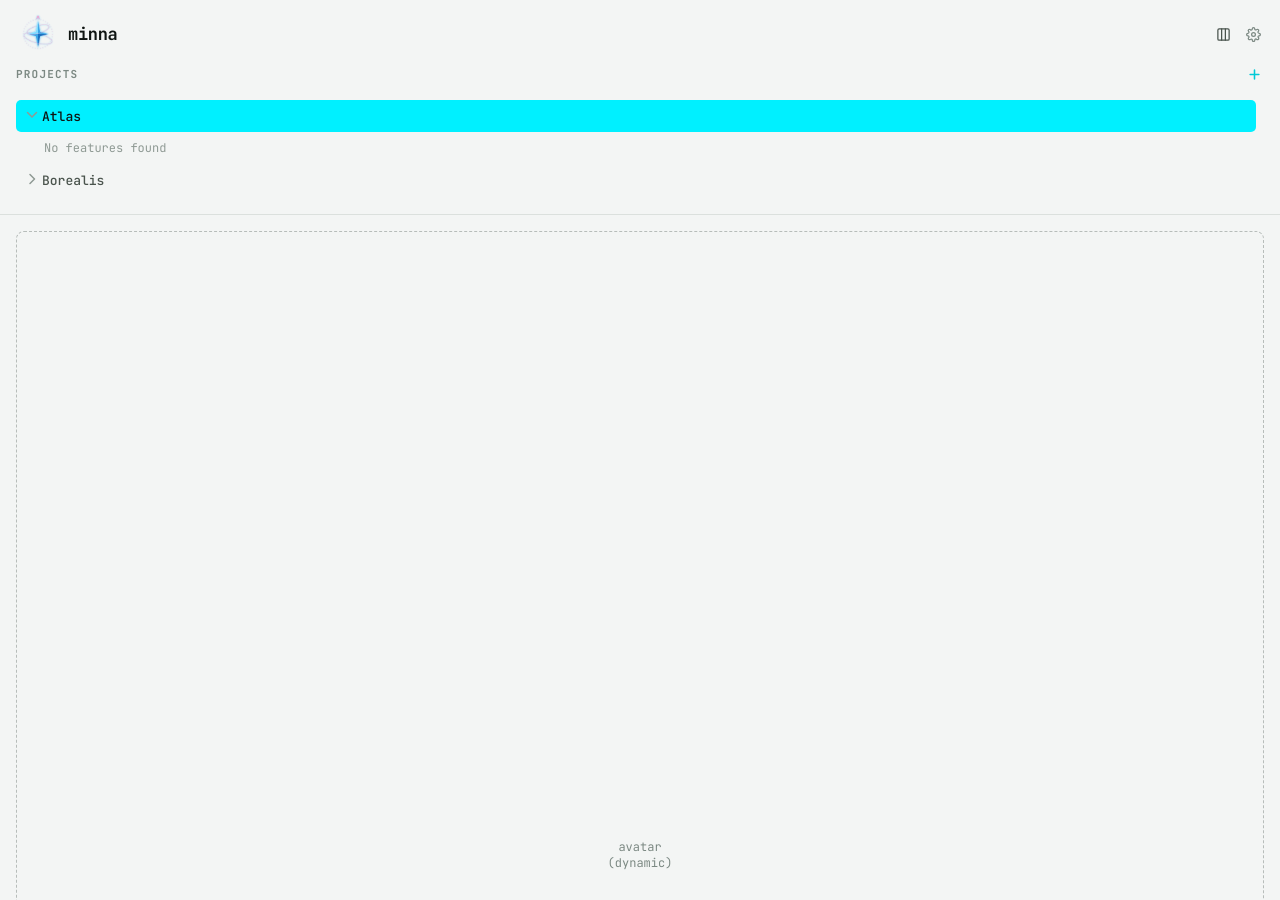
Test: Sidebar › toggles real registry projects without exposing demo feature rows
The width and height of the screenshot is (1280, 900).
Click the button "Atlas" at (62, 116), box [16,100,1208,132]
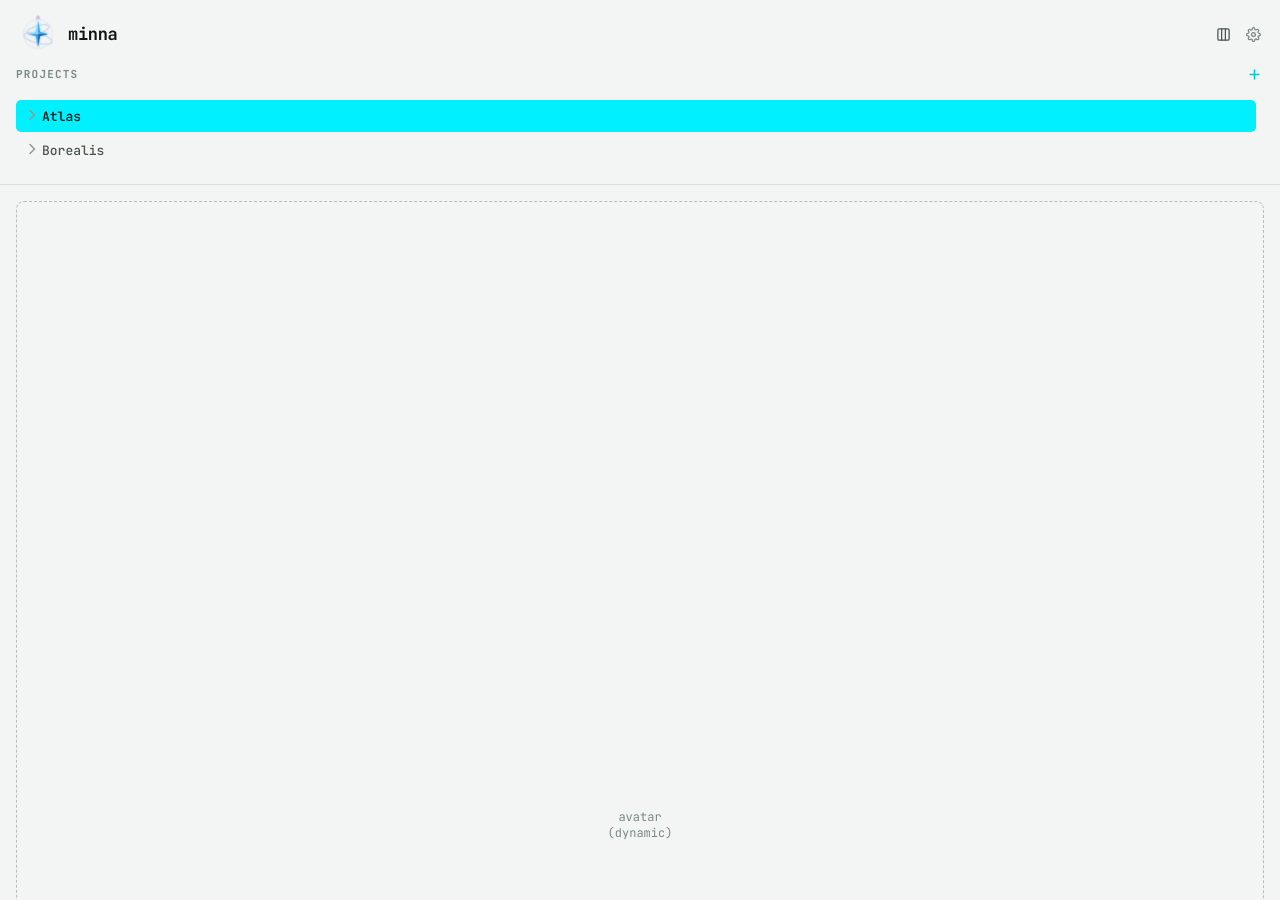
Expected: the button "Atlas" is collapsed, [16,100,1208,132]
